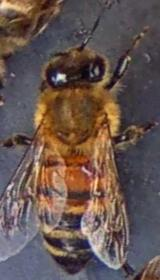varroa_mite: (69, 153, 116, 186)
